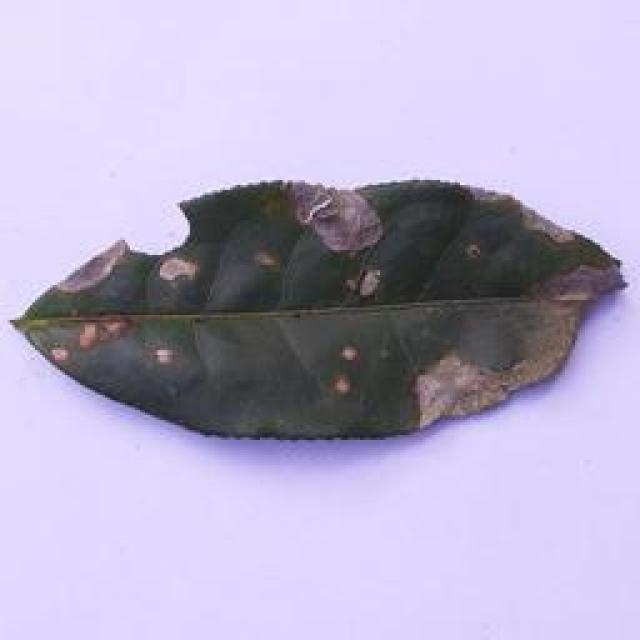Gray Blight: (11, 177, 626, 447)
